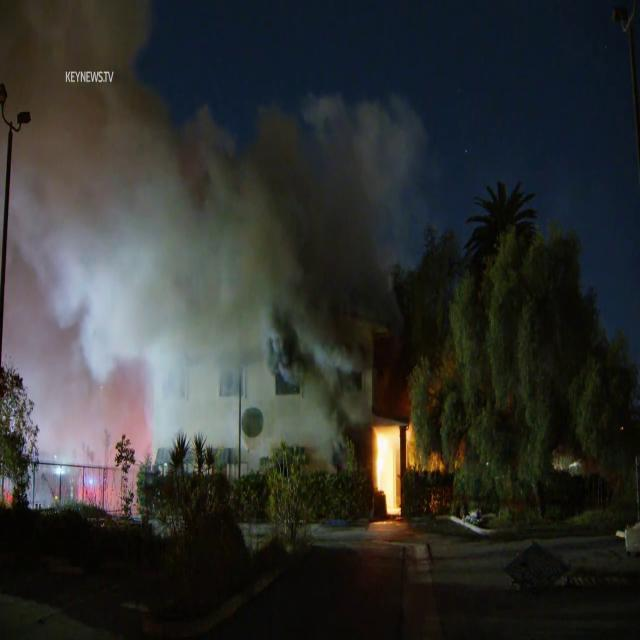Fire: (368, 416, 417, 518)
Smoke: (1, 1, 420, 432)
